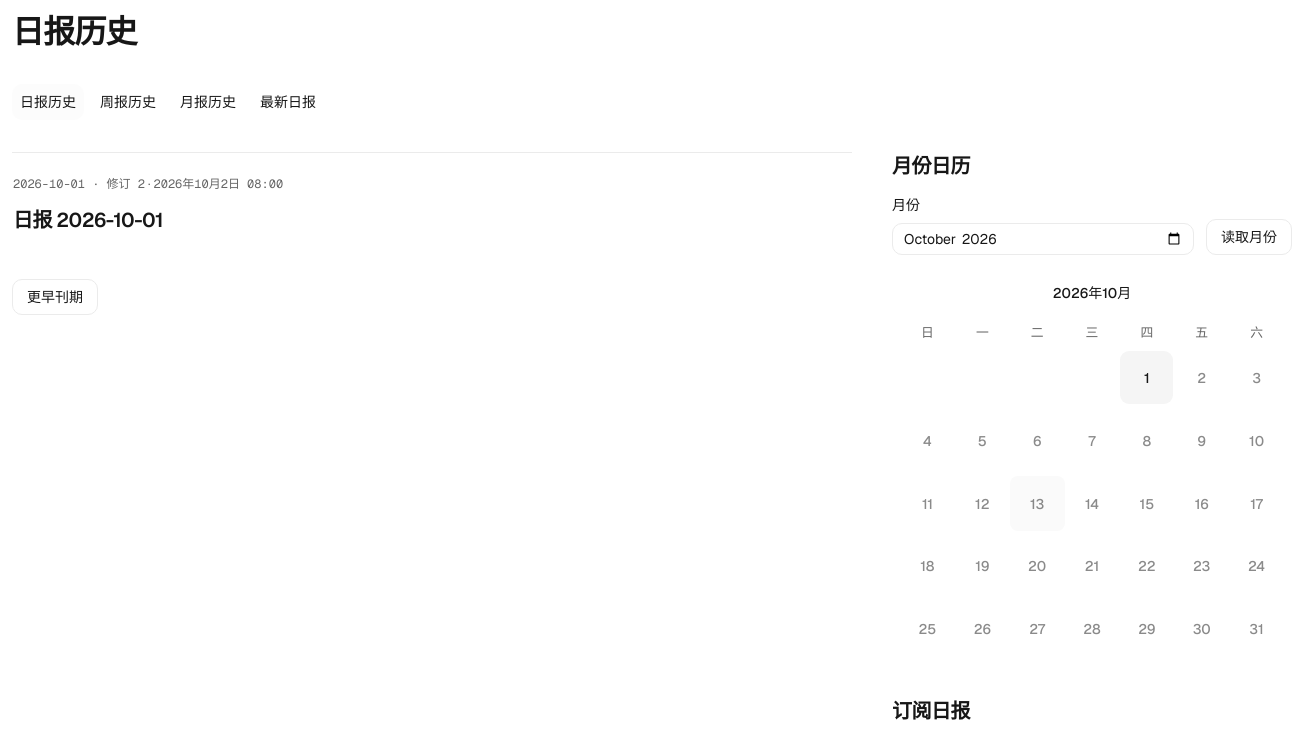
Test: links only true current calendar days and continues history using the server cursor
The width and height of the screenshot is (1304, 732).
Check: the link named "2026-10-01 日报：日报 2026-10-01" is shown, box [1119,350,1174,405]
Check: the button named "2026-10-02 暂无公开日报" is shown, box [1174,350,1229,405]
Click the button "更早刊期".
click(55, 297)  # box [12,279,98,315]
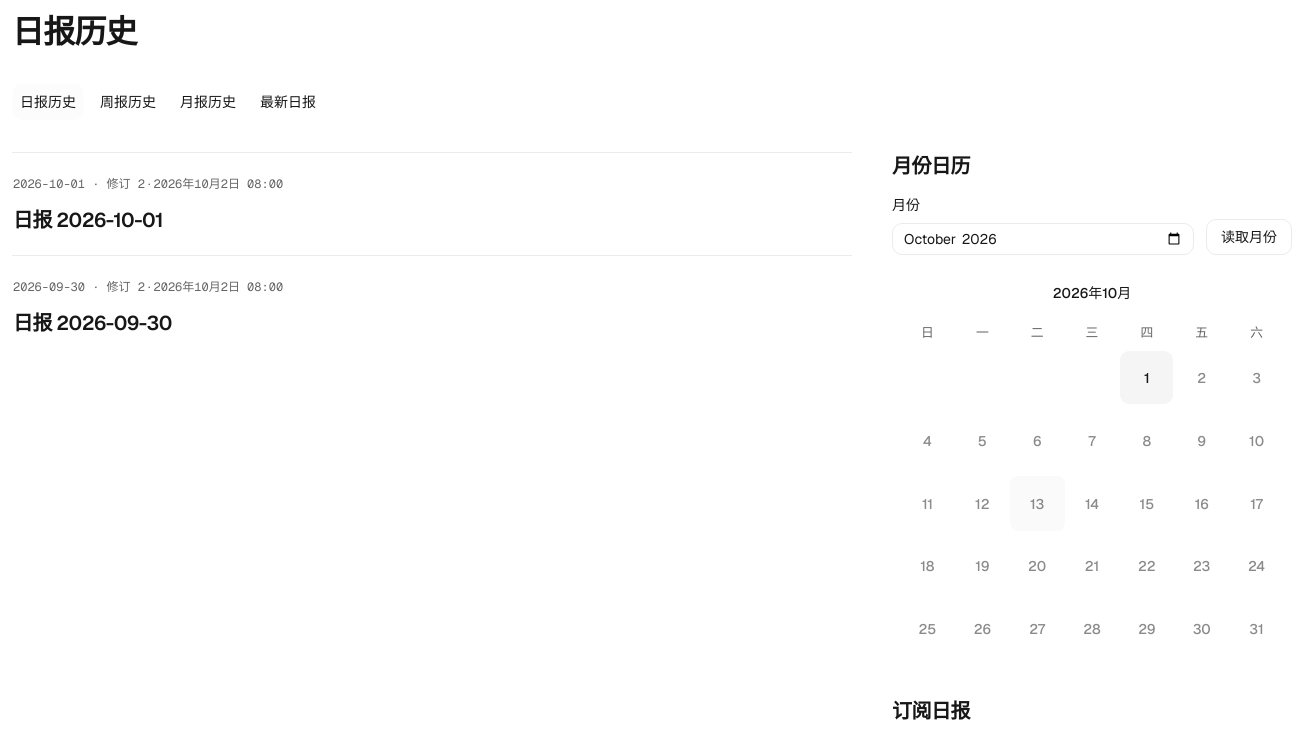
Check: the link "日报 2026-09-30" is shown, box [13,310,172,336]
Check: the button "更早刊期" is gone
